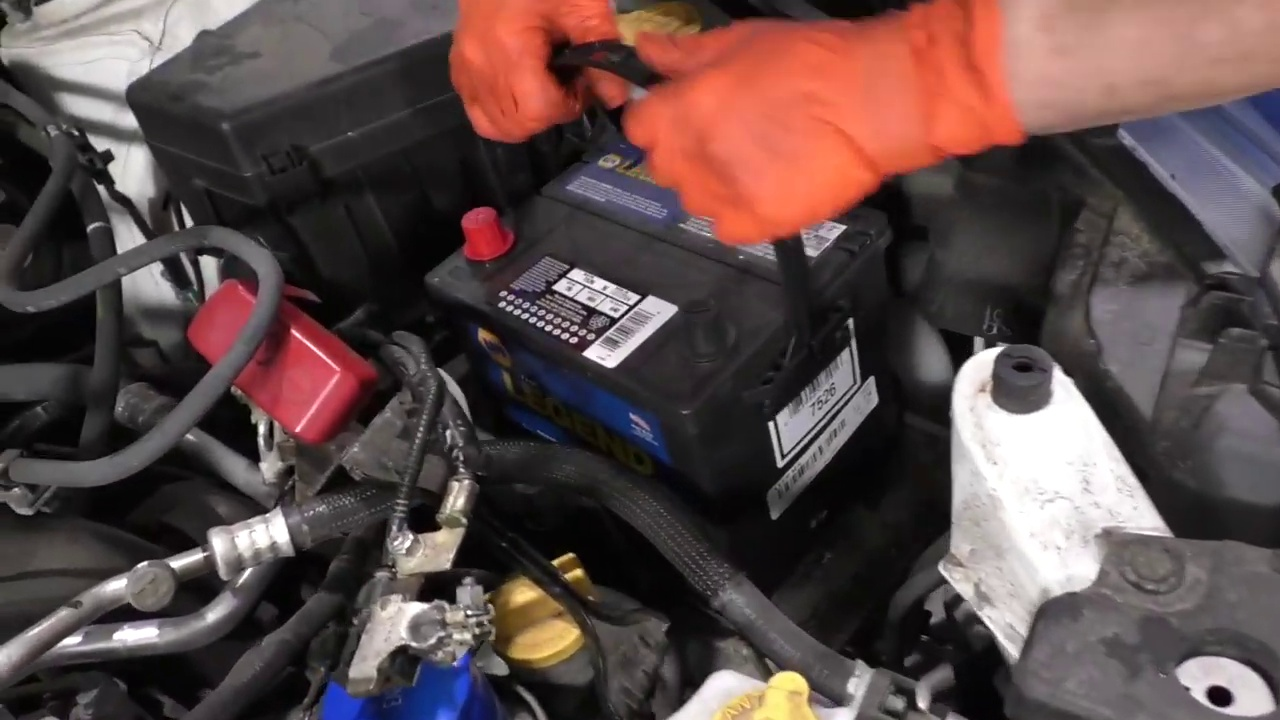battery: (443, 128, 884, 400)
